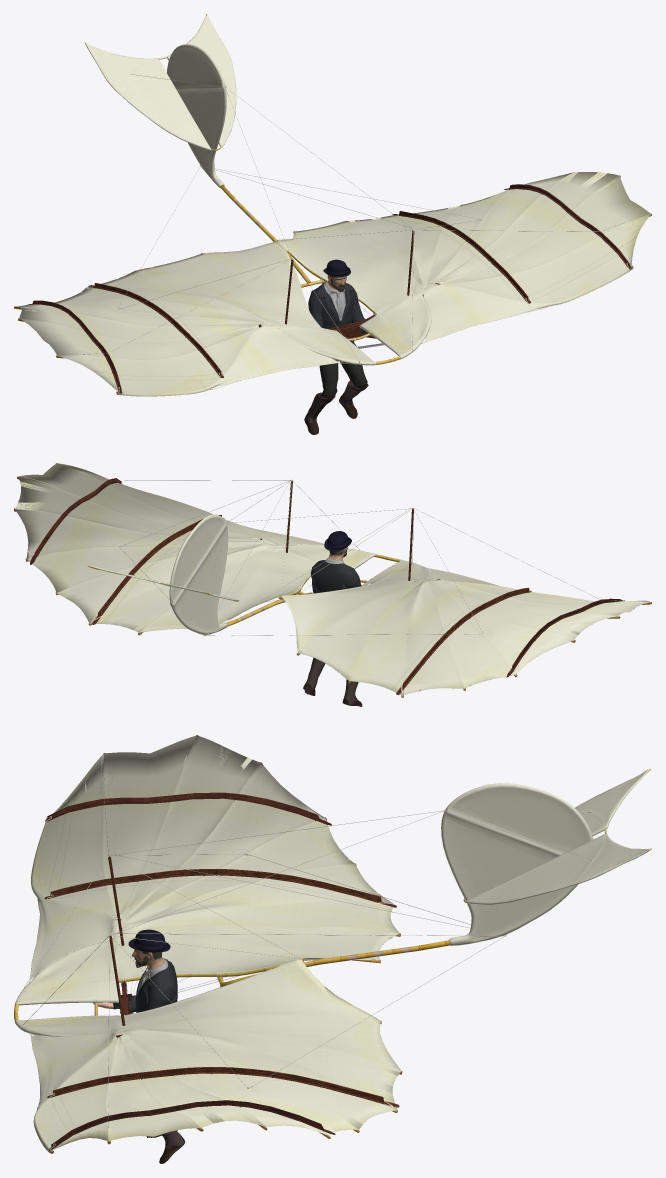
Rendered from medium.glb.
The picture shows the model from 3 angles, top to bottom: view 1: azimuth 30°, elevation 25°; view 2: azimuth 150°, elevation 25°; view 3: azimuth 270°, elevation 25°; orthographic projection. The views are drawn at different scales.
Parts seen in each view (by area): view 1: Gleiter_Mesh001_0, Lilenthal_Mesh_1; view 2: Gleiter_Mesh001_0, Lilenthal_Mesh_1; view 3: Gleiter_Mesh001_0, Lilenthal_Mesh_1.
Boxes of the visible parts, box(x1,y1,x2,y2) form: Gleiter_Mesh001_0: box(14, 14, 651, 396); Lilenthal_Mesh_1: box(304, 259, 368, 434); Gleiter_Mesh001_0: box(14, 463, 651, 697); Lilenthal_Mesh_1: box(303, 531, 362, 706); Gleiter_Mesh001_0: box(14, 735, 651, 1153); Lilenthal_Mesh_1: box(93, 929, 185, 1163).
Size of the model in its own units: 6.89 by 3.07 by 4.8.
5 materials, 5 textured.
